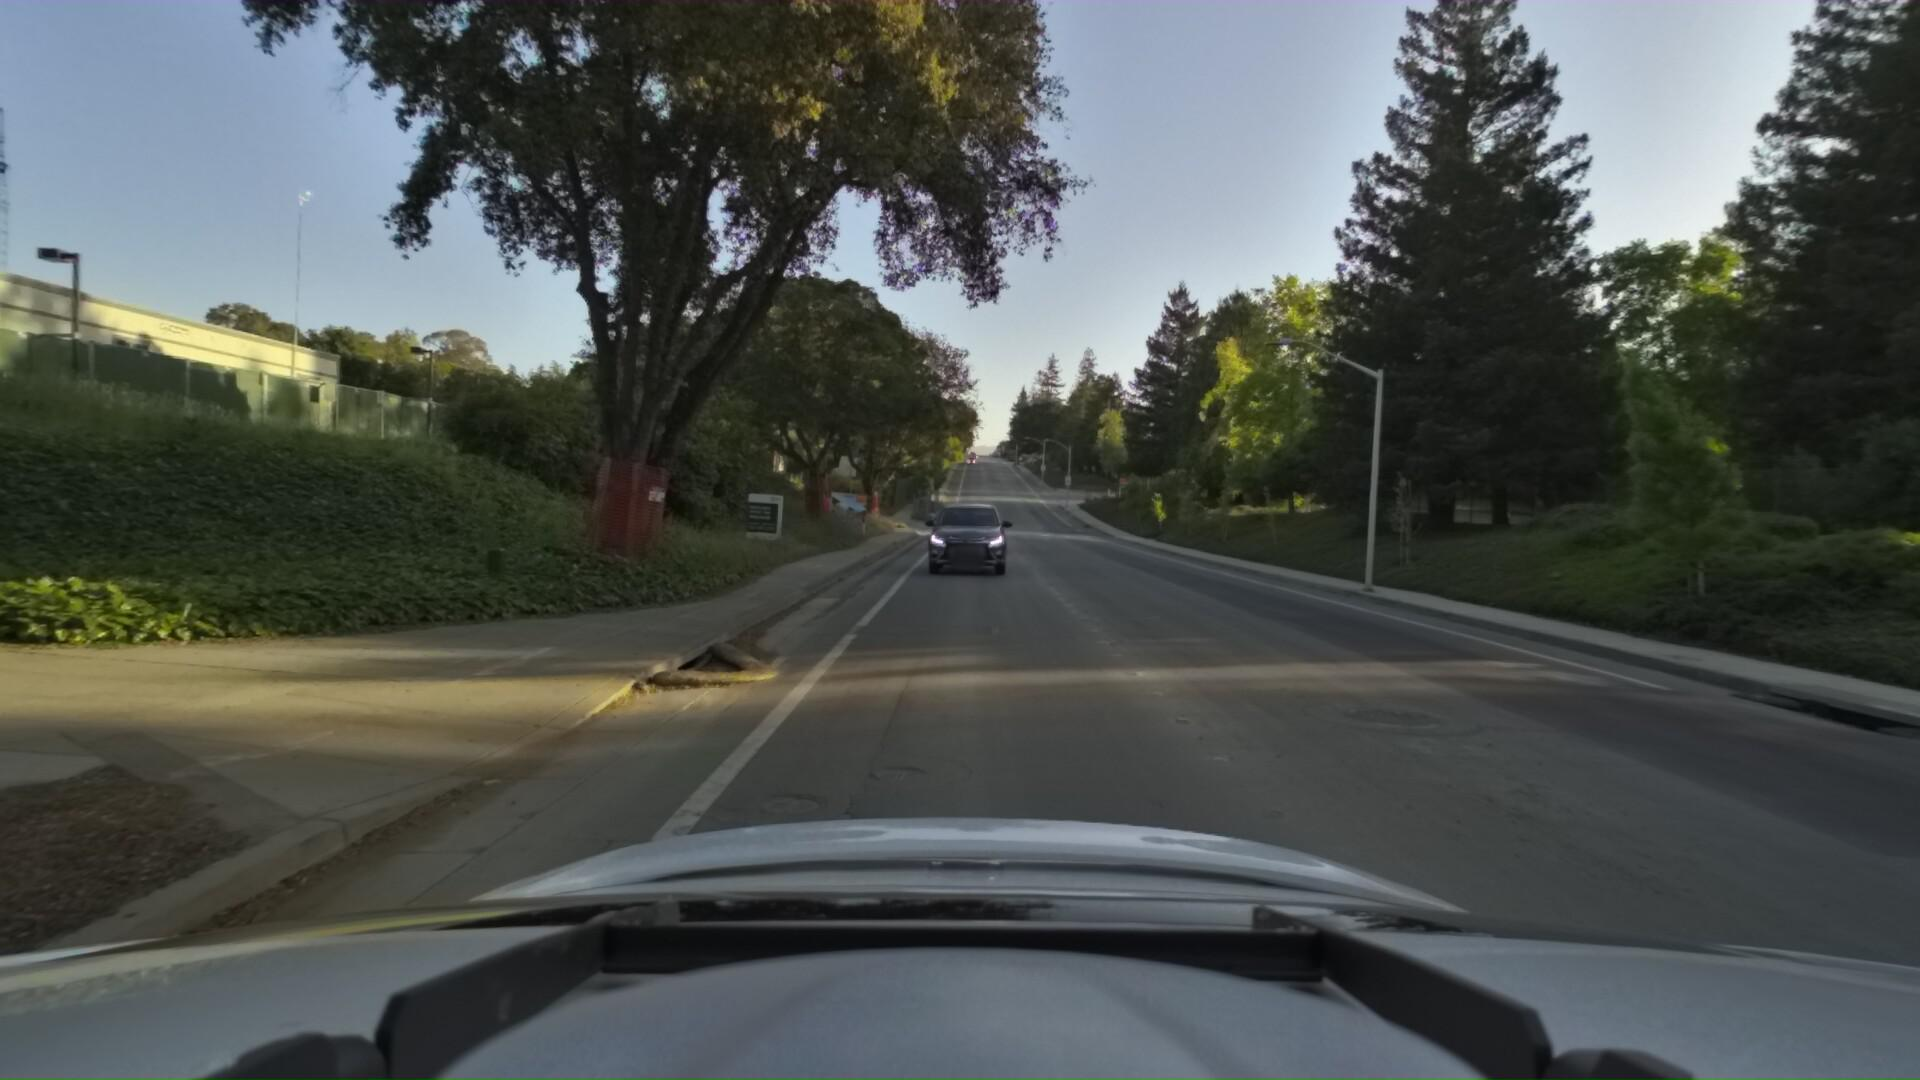car: (918, 489, 1017, 578), (963, 497, 1025, 551)
